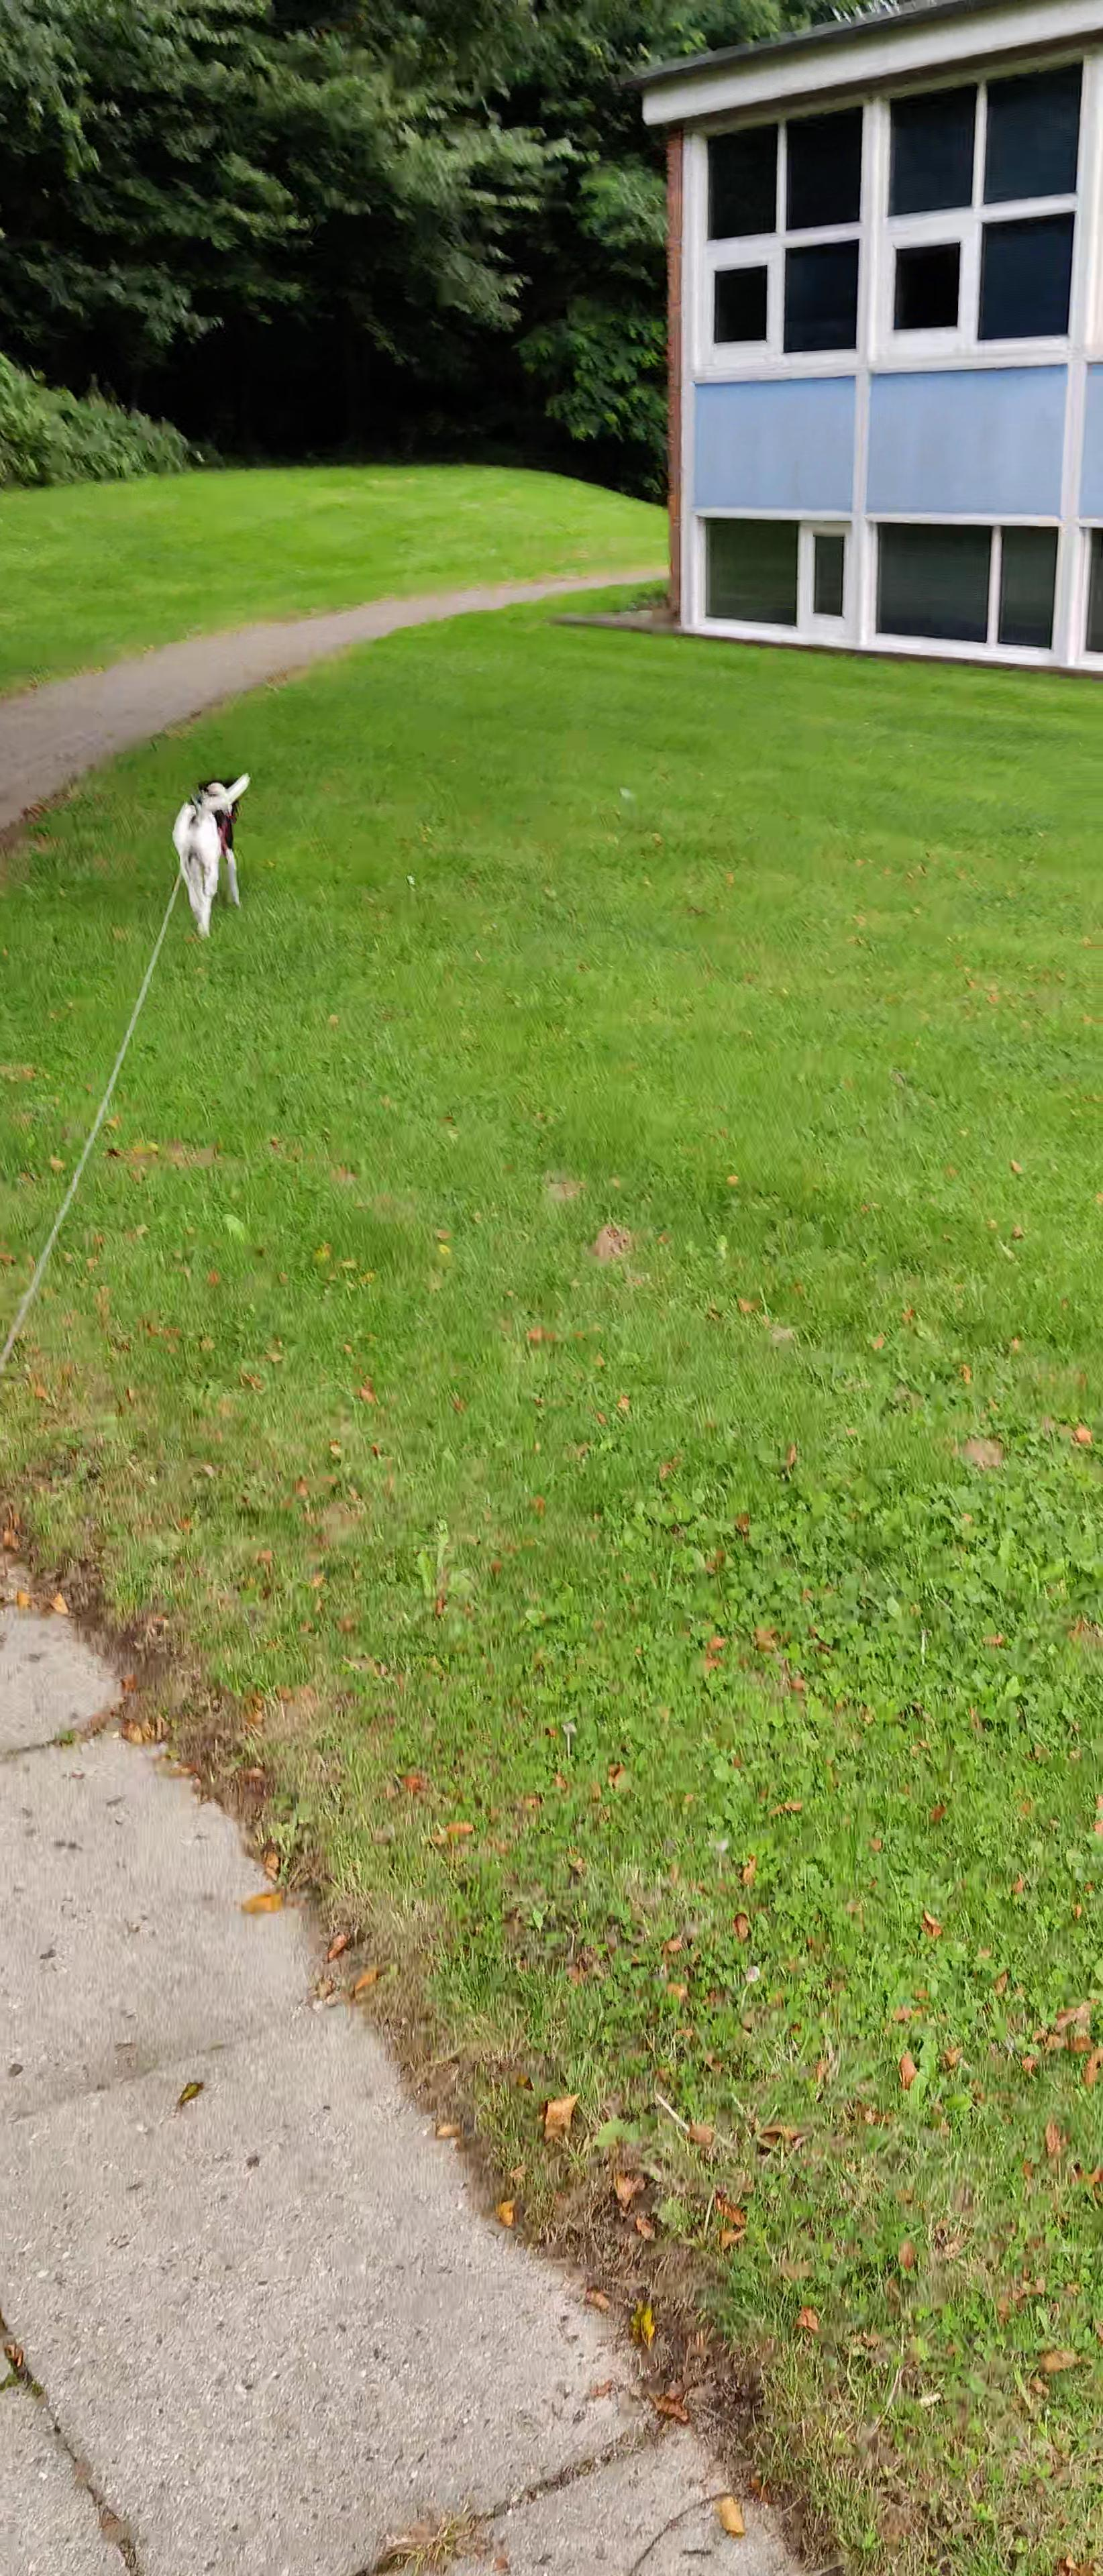Dog: (164, 769, 258, 940)
